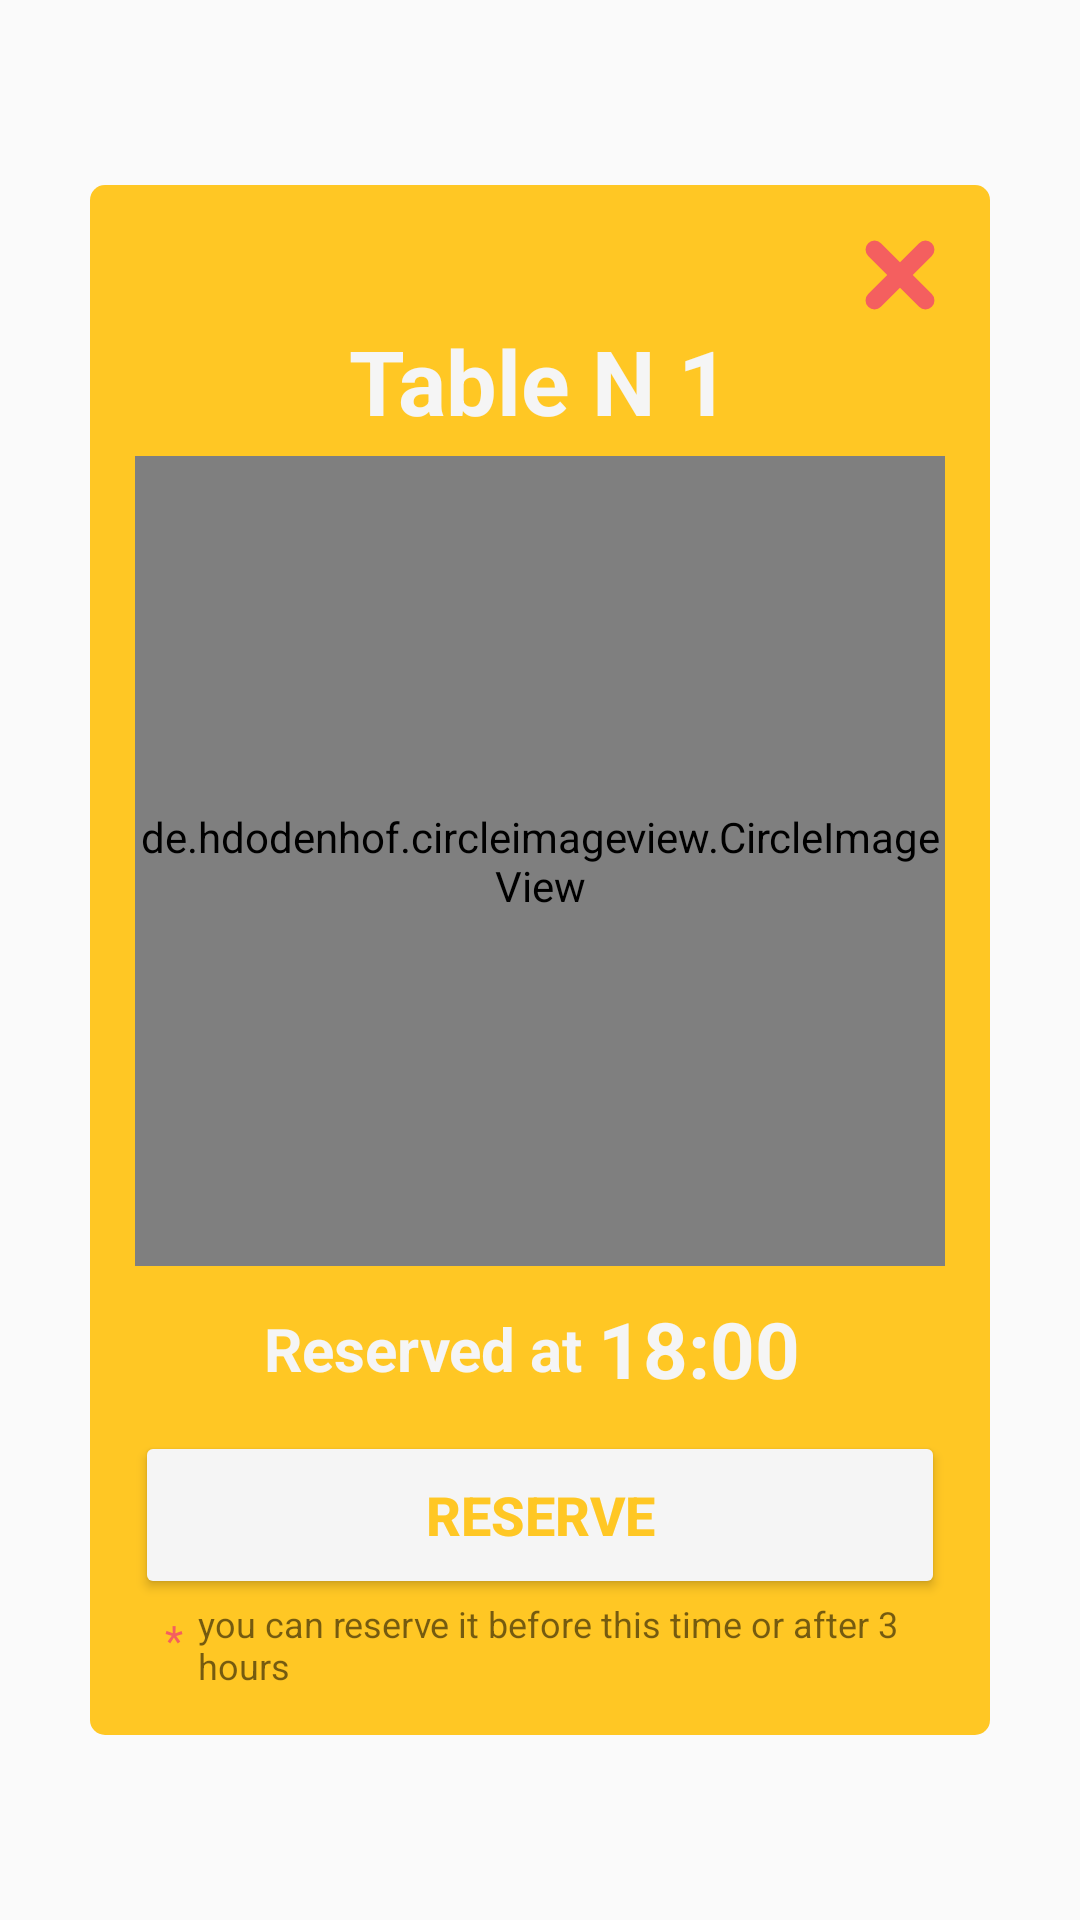

Screen size 1080 × 1920. Icon name, then its box in pixels as (x1, y1, x2, y2):
delete item cart: (865, 240, 935, 310)
